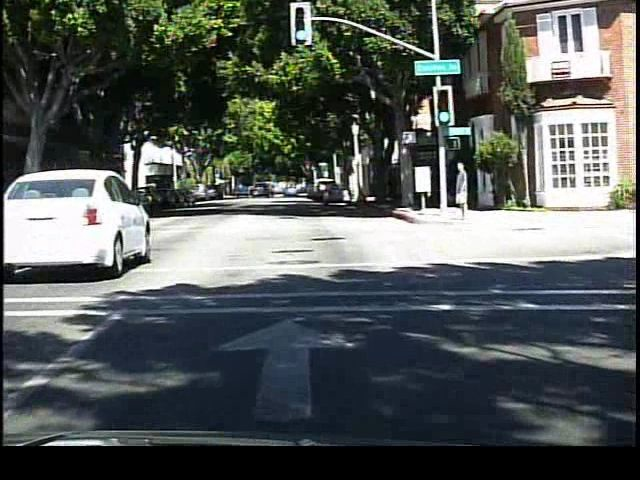person: (451, 158, 473, 219)
